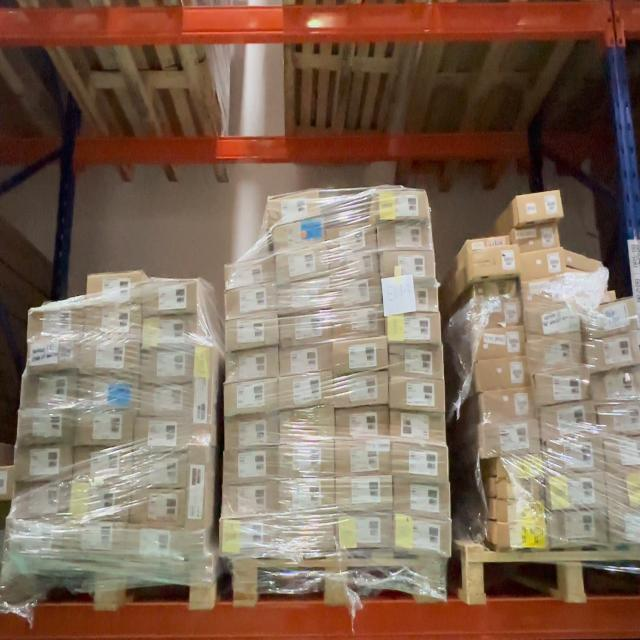box: (185, 448, 212, 547), (68, 519, 129, 559), (273, 520, 342, 552), (80, 376, 138, 414), (74, 448, 132, 486), (549, 511, 608, 548), (8, 520, 68, 556), (337, 474, 393, 512), (191, 345, 212, 446), (546, 440, 606, 475), (76, 412, 135, 447), (480, 420, 539, 455), (550, 473, 607, 509), (129, 527, 183, 565), (394, 483, 450, 519), (394, 444, 450, 480), (16, 446, 72, 482), (131, 489, 187, 525), (397, 520, 451, 557), (134, 451, 188, 488), (87, 303, 142, 339), (81, 342, 139, 376), (276, 481, 334, 515), (542, 404, 598, 439), (144, 279, 198, 315), (391, 410, 446, 445), (583, 298, 638, 333), (535, 371, 593, 404), (223, 449, 276, 485), (278, 444, 334, 478), (224, 316, 278, 351), (22, 374, 76, 409), (340, 515, 394, 550), (528, 335, 582, 370), (222, 521, 273, 558), (88, 271, 145, 304), (223, 382, 278, 416), (390, 379, 445, 413), (17, 411, 72, 445), (586, 334, 639, 369), (223, 415, 277, 449), (526, 302, 580, 336), (337, 442, 392, 475), (223, 483, 276, 517), (141, 350, 194, 384), (468, 242, 518, 278), (334, 374, 390, 406), (384, 279, 438, 312), (142, 314, 196, 347), (335, 340, 390, 372), (138, 386, 193, 418), (224, 350, 277, 383), (390, 346, 443, 379), (71, 486, 129, 516), (225, 285, 276, 319), (388, 313, 441, 345), (331, 274, 384, 306), (480, 390, 532, 422), (29, 304, 81, 336), (270, 192, 322, 224), (280, 376, 332, 408), (337, 409, 390, 440), (27, 340, 80, 371), (476, 358, 527, 390), (276, 250, 327, 282), (591, 370, 640, 403), (280, 313, 332, 344), (334, 306, 387, 336), (280, 410, 333, 440), (137, 421, 190, 451), (379, 188, 428, 220), (272, 220, 324, 250), (15, 490, 70, 518), (476, 327, 524, 359), (277, 282, 328, 312), (381, 250, 435, 278), (379, 221, 431, 250), (524, 276, 574, 306), (281, 346, 332, 375), (518, 190, 564, 222), (327, 223, 375, 251), (474, 300, 521, 328), (520, 248, 565, 277), (600, 404, 640, 436), (229, 259, 274, 287), (606, 473, 640, 510), (330, 251, 380, 276), (605, 438, 640, 472), (473, 277, 520, 302), (496, 526, 547, 549), (518, 223, 562, 249), (564, 271, 607, 297), (609, 511, 640, 546), (497, 455, 542, 479), (497, 480, 543, 502), (499, 502, 544, 524), (561, 250, 604, 273), (0, 464, 14, 501)
